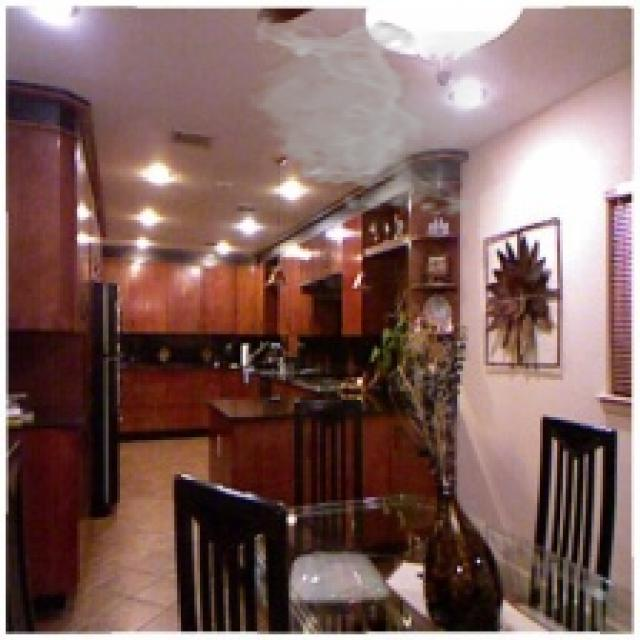smoke: (246, 17, 508, 223)
